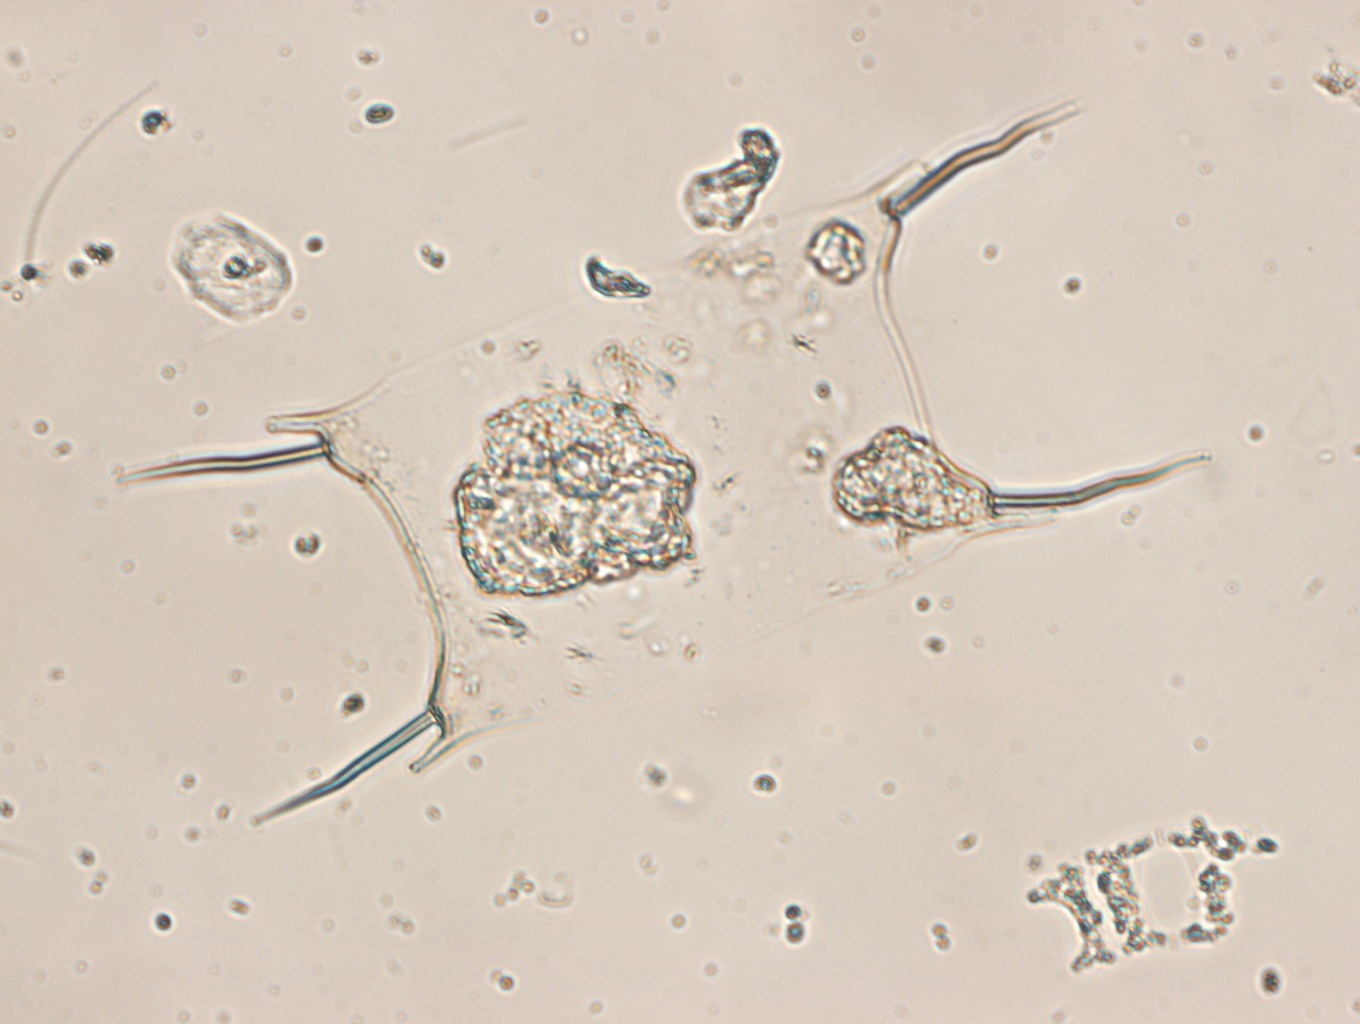biddulphia: (127, 97, 1214, 823)
